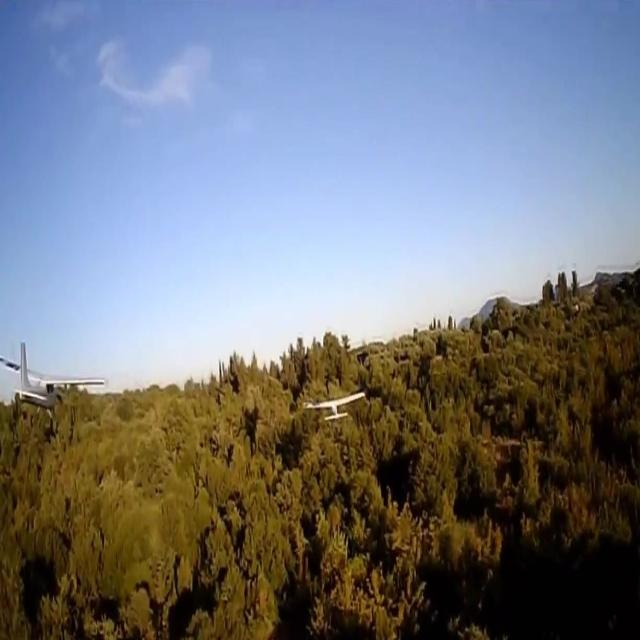iha: (302, 389, 365, 423), (32, 373, 76, 378)
